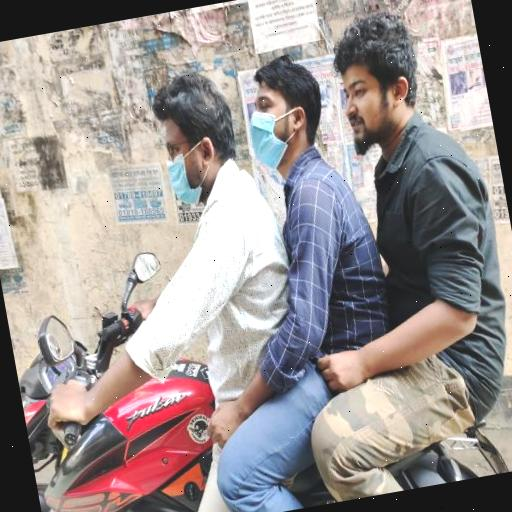no helmet: (109, 49, 274, 249)
triple riding: (0, 2, 512, 512)
